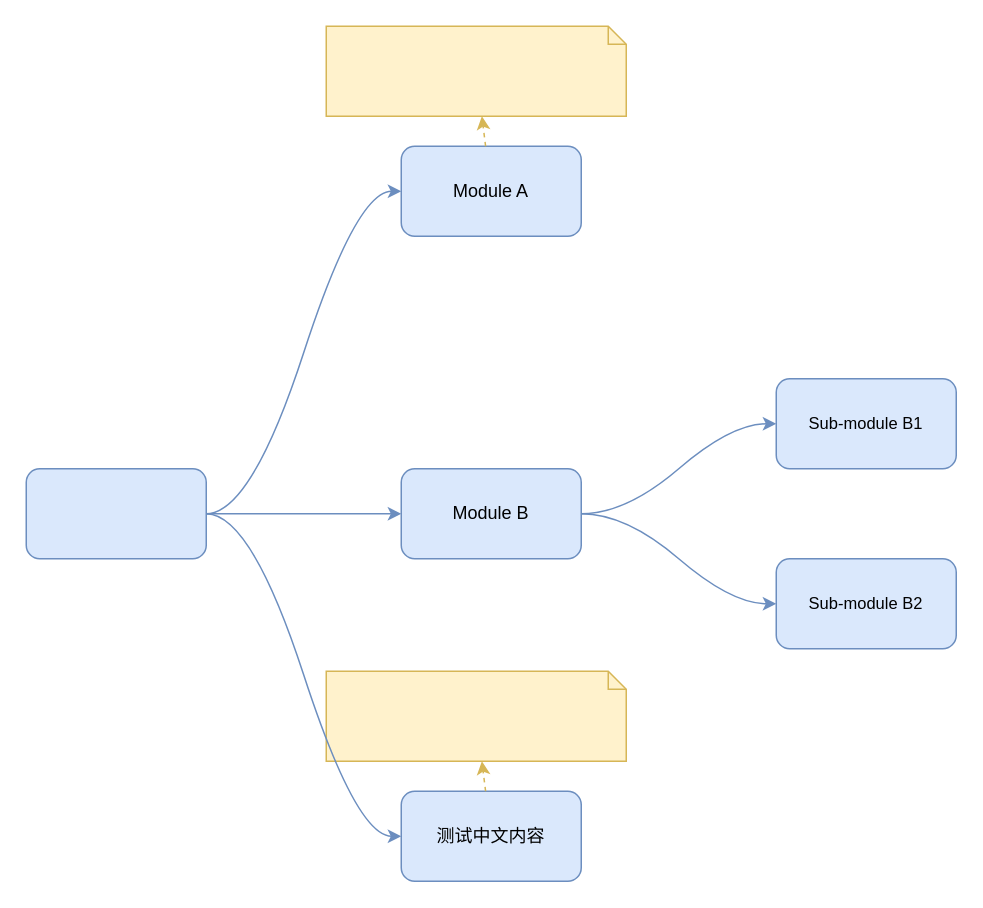
This 983x908 diagram has some shape labels left out. The box of each missing label's shape, as (x1, y1, x2, y2) in pixels:
Test Project: (25, 467, 206, 559)
This is a test annotation: (325, 25, 626, 116)
中文注释测试: (325, 670, 626, 761)
